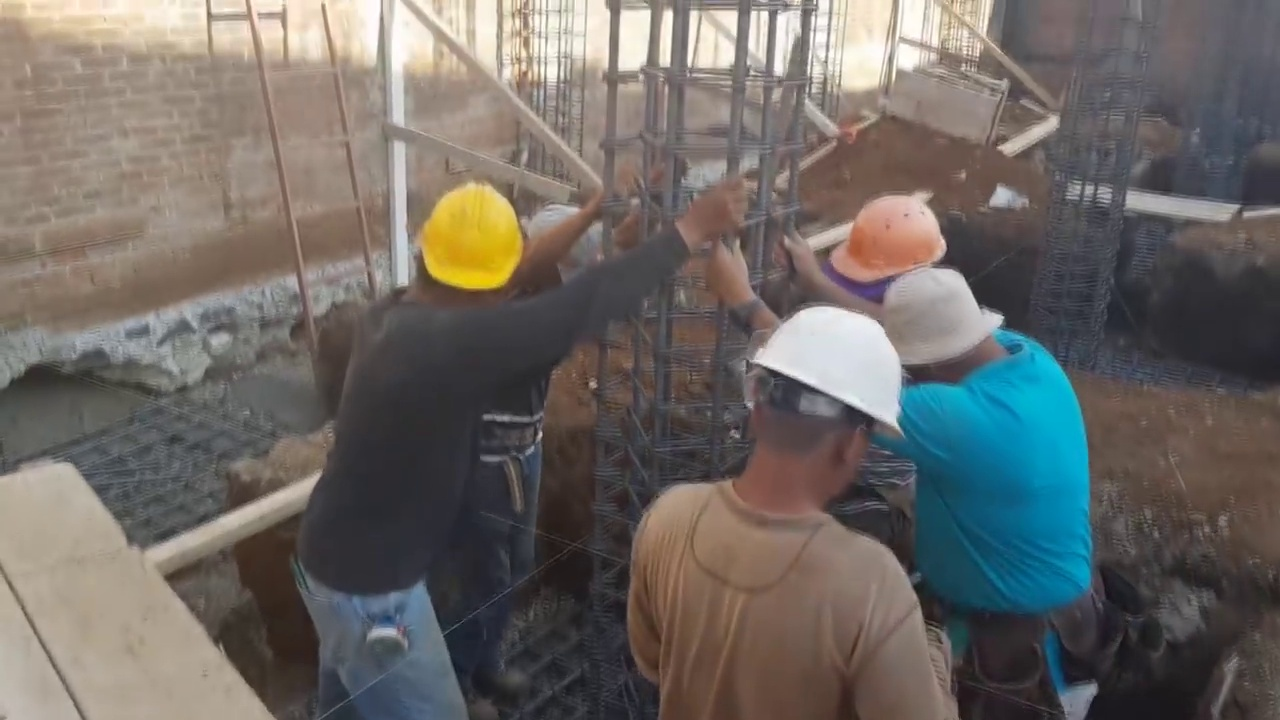helmet: (755, 309, 912, 444), (419, 182, 524, 291), (834, 192, 955, 286)
helmet-off: (860, 274, 1022, 393), (518, 196, 612, 299)
helmet-on: (726, 298, 911, 529), (403, 182, 539, 309)
person: (282, 133, 711, 710), (634, 301, 972, 713), (865, 219, 1111, 710), (456, 153, 668, 642)
